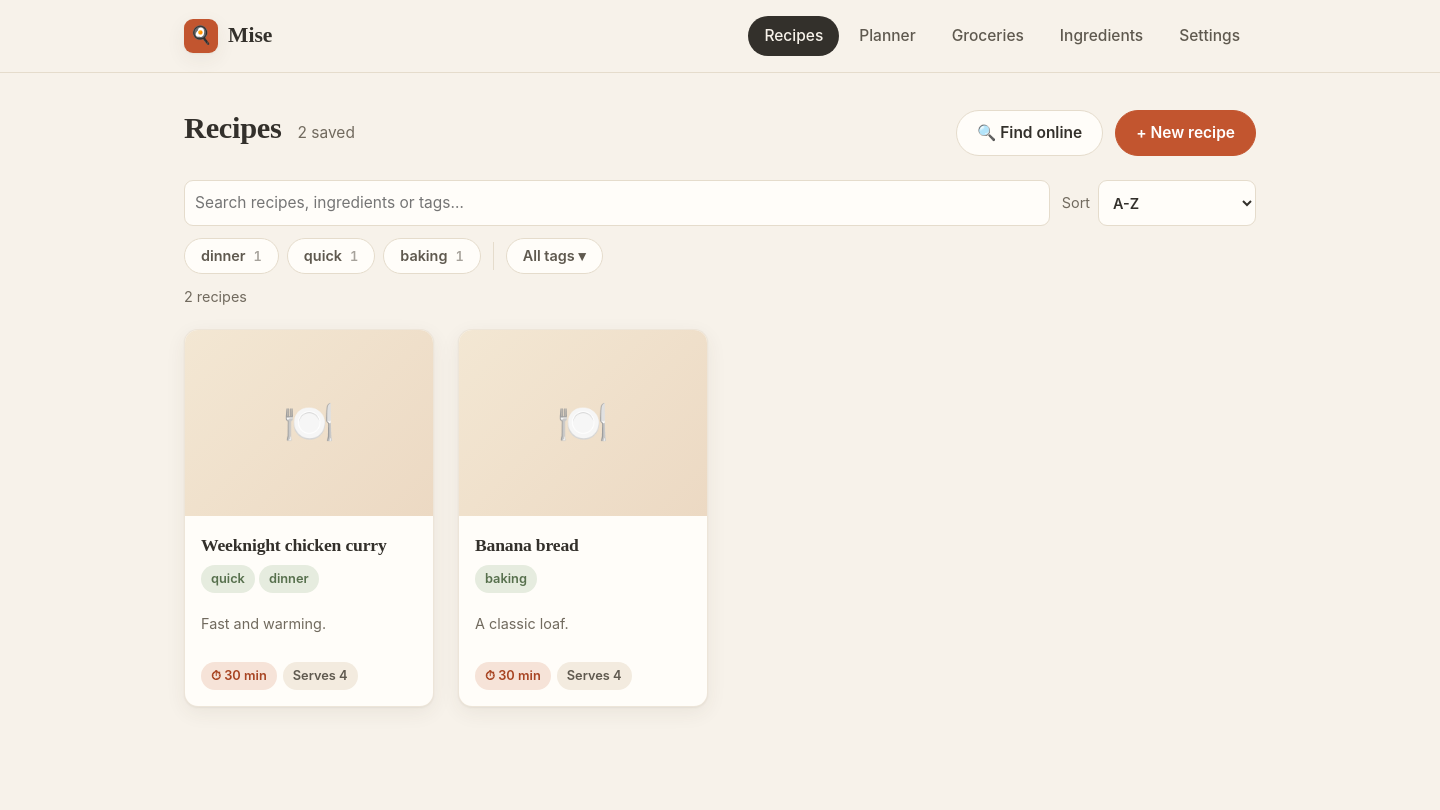
Test: RecipesPage › hands the search to the server and shows what comes back
Expected: the heading "Banana bread" is shown, [475,535,579,555]
Type "coconut" into the dropdown labelled "Search recipes" at x=617, y=203, box [195,187,1039,219]
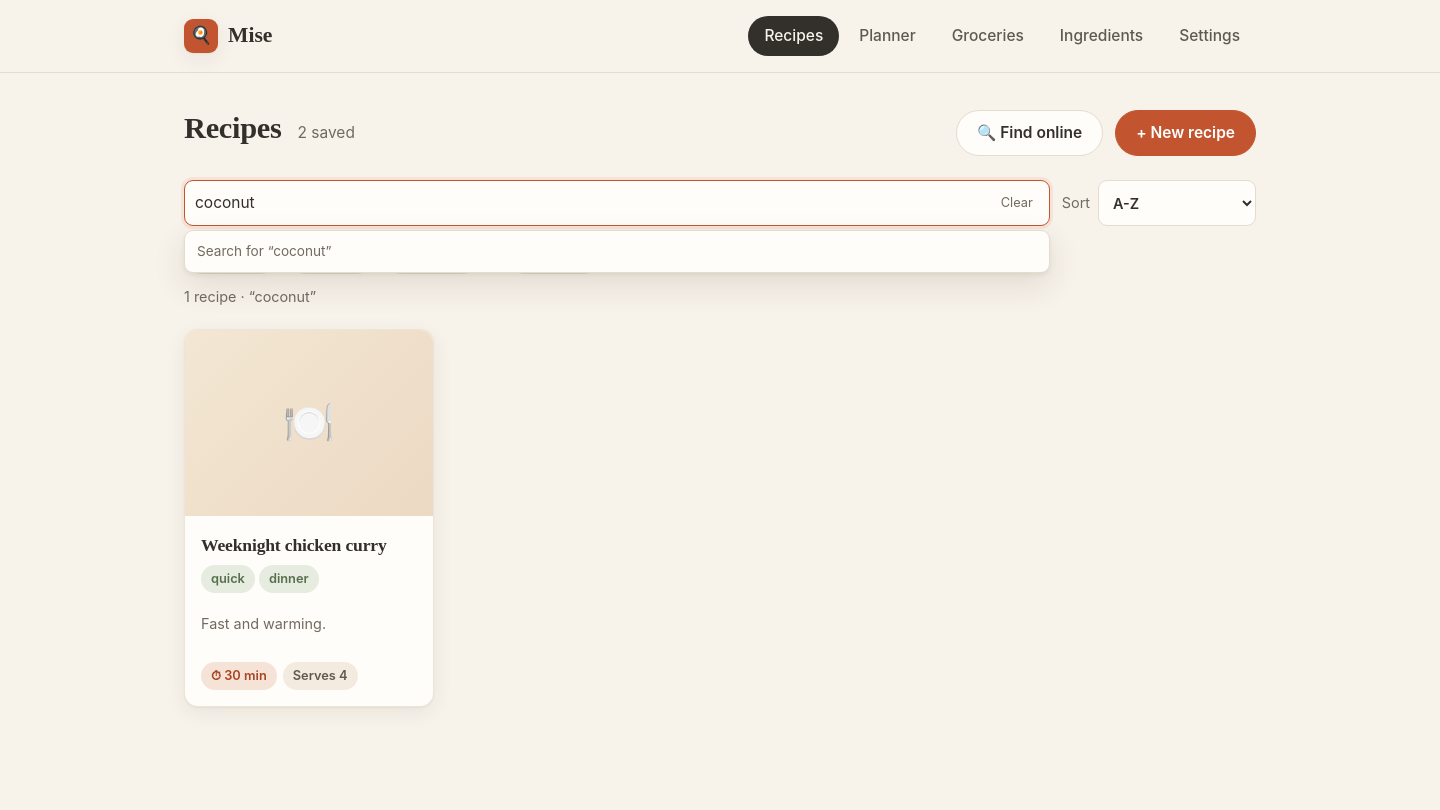
Expected: the text "2 saved" is shown, [298,121,355,145]
Expected: the text with class "recipes-result" reads "1 recipe · “coconut”", [184,288,316,305]
